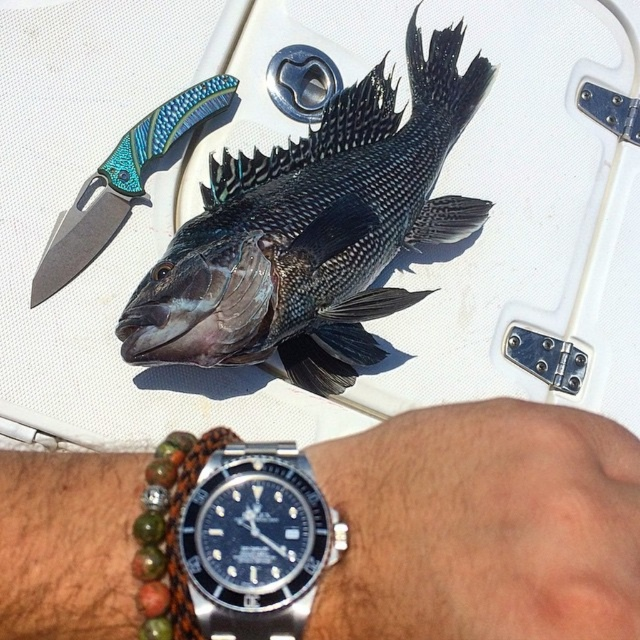Fish: (113, 42, 518, 404)
